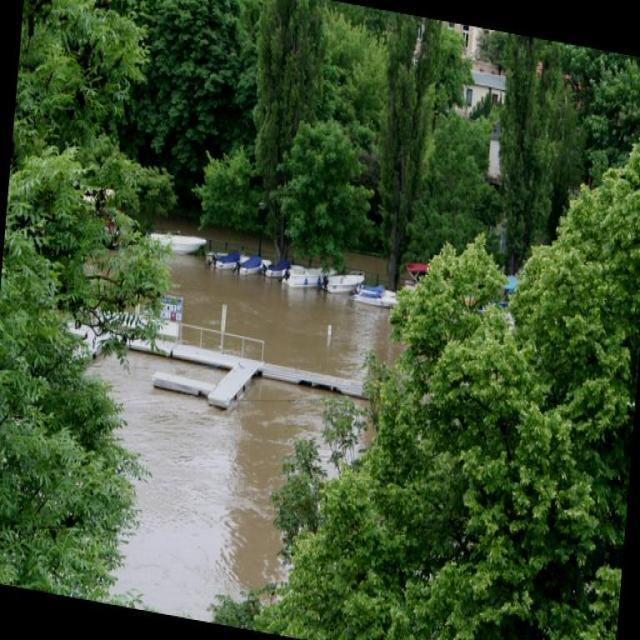flood: (49, 178, 434, 639)
